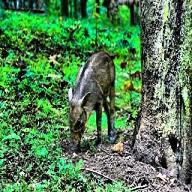boar: (66, 50, 116, 150)
